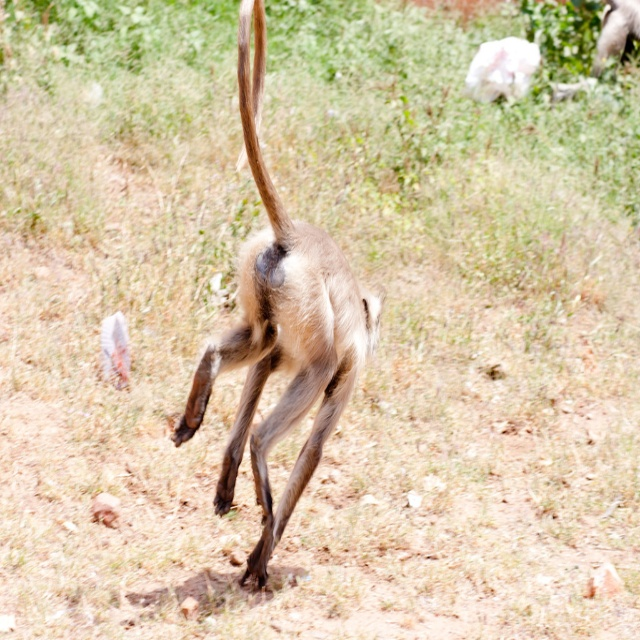Monkey: (170, 0, 391, 589)
